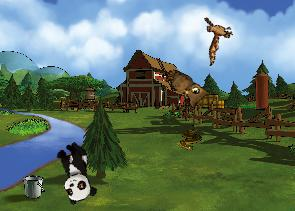eagle: (190, 9, 242, 66)
owl: (158, 67, 212, 112)
panda: (51, 139, 99, 205)
